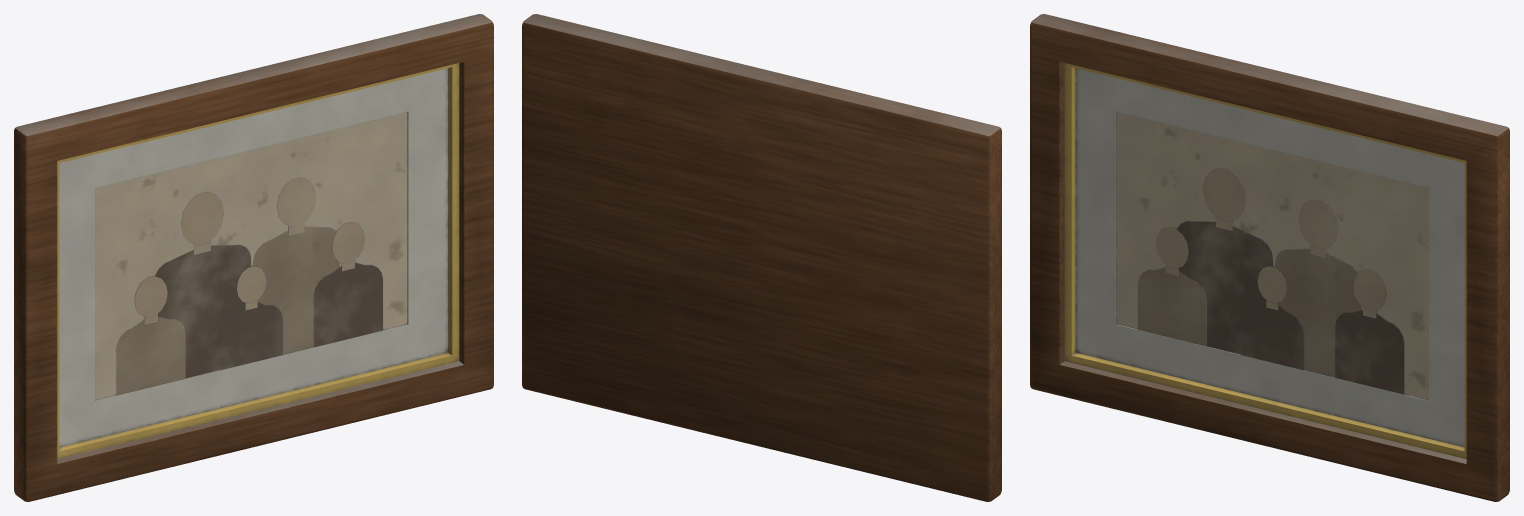
File: quadro_familia.glb
3 views of the same model, side by side, from view 1: azimuth 30°, elevation 25°; view 2: azimuth 150°, elevation 25°; view 3: azimuth 330°, elevation 25° (orthographic).
Visible parts, largest first — view 1: quadro; view 2: quadro; view 3: quadro.
Boxes of the visible parts, bbox=[...] form: quadro: bbox=[14, 14, 493, 501]; quadro: bbox=[522, 14, 1001, 501]; quadro: bbox=[1030, 14, 1509, 501].
Size of the model in its own units: 0.6 by 0.45 by 0.03.
Materials: 1 (1 with a texture image).
